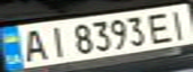3: (124, 14, 151, 47), (90, 18, 112, 53)
8: (69, 20, 93, 55)
9: (109, 16, 130, 51)
A: (15, 26, 51, 63)
E: (145, 9, 178, 44)
I: (163, 6, 193, 39), (42, 24, 69, 58)
